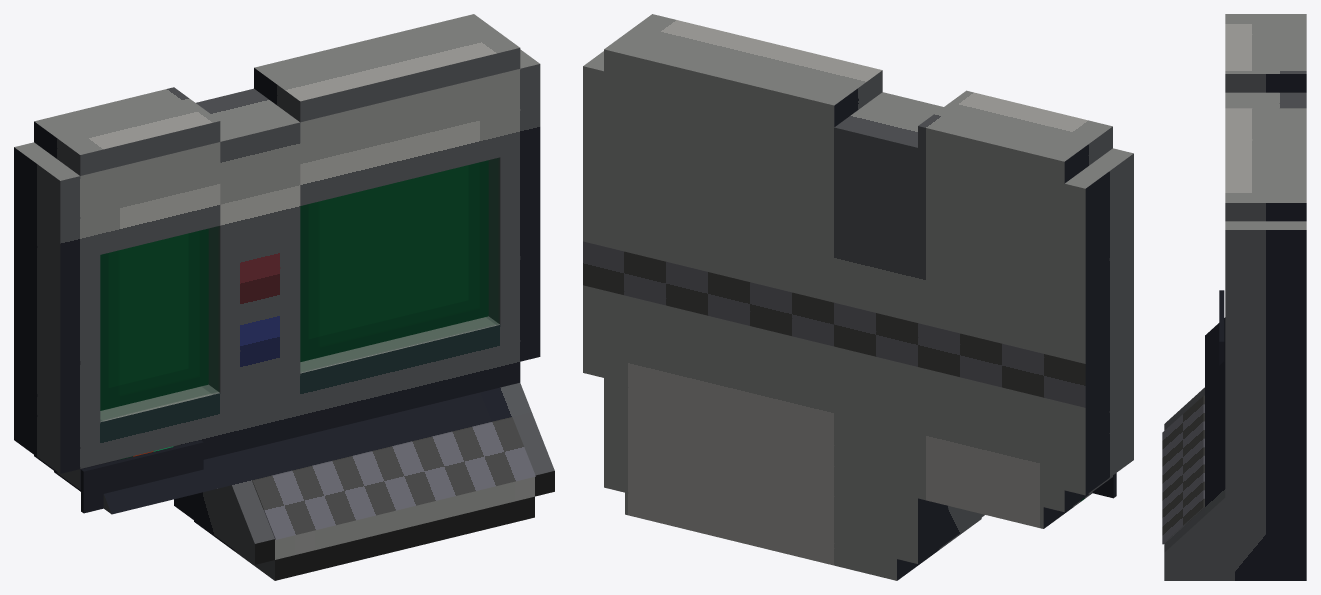
Rendered from requests_console_off.glb.
3 views of the same model, side by side, from view 1: azimuth 30°, elevation 25°; view 2: azimuth 150°, elevation 25°; view 3: azimuth 270°, elevation 25° (orthographic). The views are drawn at different scales.
Parts seen in each view (by area): view 1: Continuous_Housing, Message_Glass, Status_Glass, Keyboard_Panel, Service_Panel; view 2: Continuous_Housing; view 3: Continuous_Housing, Keyboard_Panel, Service_Panel.
Boxes of the visible parts, x1=… form: Continuous_Housing: x1=14, y1=14, x2=554, y2=580; Message_Glass: x1=300, y1=158, x2=499, y2=372; Status_Glass: x1=100, y1=226, x2=219, y2=421; Keyboard_Panel: x1=252, y1=417, x2=535, y2=539; Service_Panel: x1=81, y1=440, x2=203, y2=513; Continuous_Housing: x1=583, y1=14, x2=1133, y2=580; Continuous_Housing: x1=1164, y1=14, x2=1306, y2=580; Keyboard_Panel: x1=1162, y1=395, x2=1204, y2=544; Service_Panel: x1=1219, y1=290, x2=1224, y2=364.
Bounding box in the file's own units: 0.675 × 0.5906 × 0.1996.
Materials: 2 (2 with a texture image).
